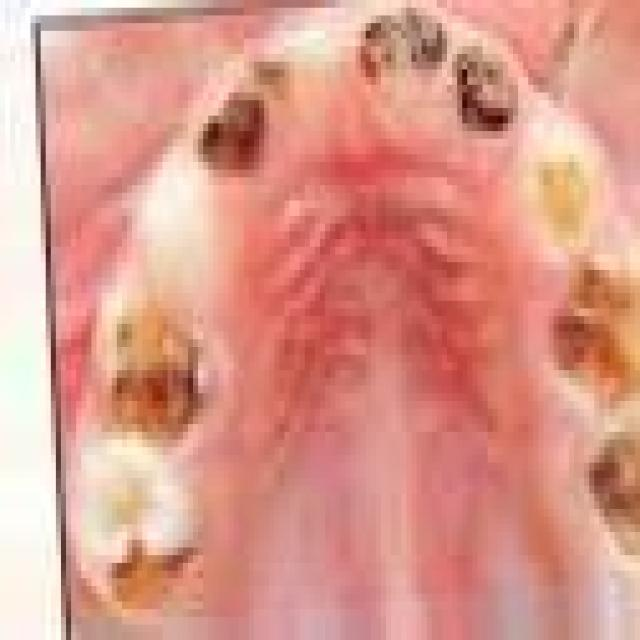caries: (90, 264, 230, 450), (79, 444, 211, 630), (183, 41, 296, 202), (548, 240, 640, 429), (354, 0, 452, 108), (520, 124, 603, 248), (577, 420, 640, 560), (448, 40, 525, 154)
